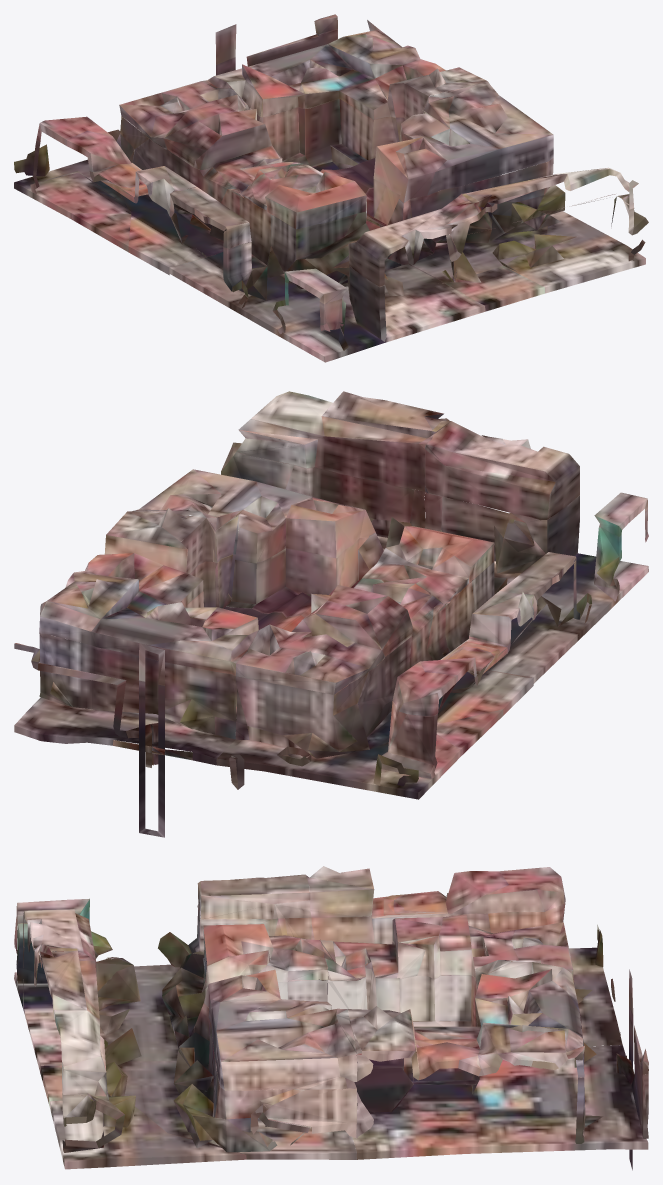
3 renders of one model, top to bottom at view 1: azimuth 30°, elevation 25°; view 2: azimuth 150°, elevation 25°; view 3: azimuth 270°, elevation 25°, orthographic. The views are drawn at different scales.
Parts seen in each view (by area): view 1: Mesh_0; view 2: Mesh_0; view 3: Mesh_0.
Boxes of the visible parts, x1,y1,x2,y2 form: Mesh_0: (14,14,648,362); Mesh_0: (14,391,648,837); Mesh_0: (14,866,648,1170).
Bounding box in the file's own units: 134 × 62.2 × 165.
1 material, 1 textured.
